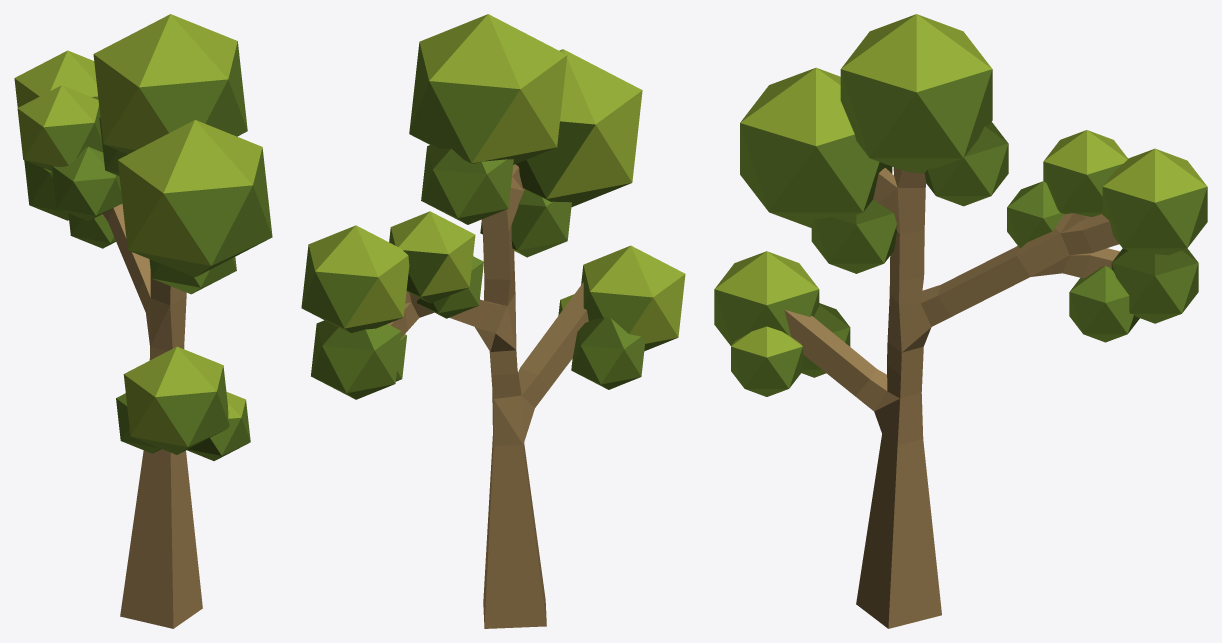
File: treeTall_Col.fbx
3 views of the same model, side by side, from view 1: azimuth 30°, elevation 25°; view 2: azimuth 150°, elevation 25°; view 3: azimuth 270°, elevation 25° (orthographic). The views are drawn at different scales.
Visible parts, largest first — view 1: tree_Tall; view 2: tree_Tall; view 3: tree_Tall.
Boxes of the visible parts, left/top/right/bottom form: tree_Tall: left=14, top=14, right=272, bottom=628; tree_Tall: left=301, top=14, right=685, bottom=628; tree_Tall: left=714, top=14, right=1207, bottom=628.
Bounding box in the file's own units: 76.78 × 240 × 177.
